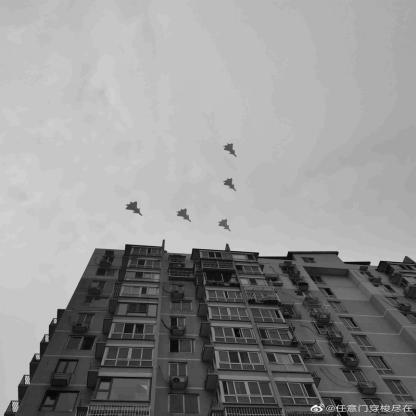J20: (126, 202, 144, 218), (177, 209, 193, 223), (224, 144, 238, 159), (223, 179, 238, 193), (218, 219, 232, 233)
